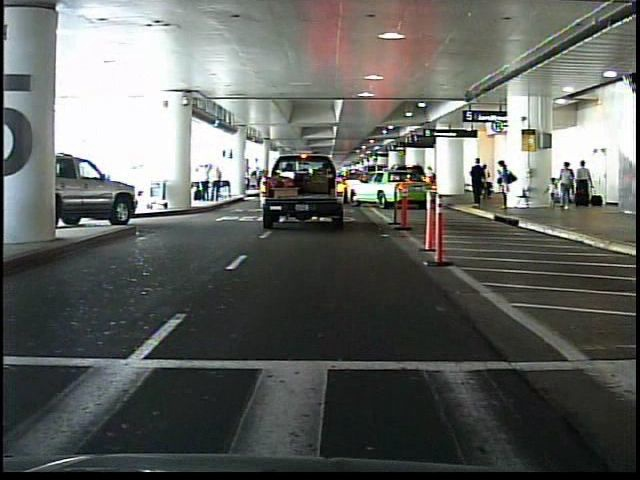person: (496, 156, 517, 213), (468, 154, 487, 206), (480, 159, 495, 206)
